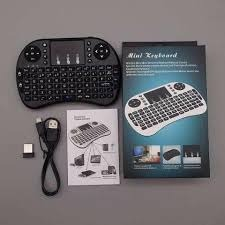keyboard: (11, 66, 122, 99)
